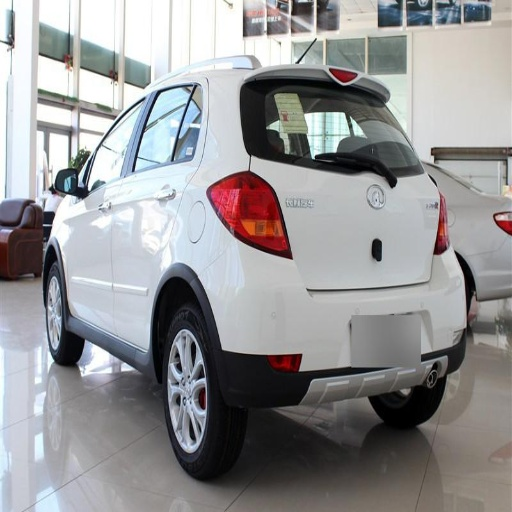back_bumper: (200, 237, 467, 404)
back_glass: (241, 79, 416, 171)
back_left_door: (112, 81, 197, 340)
trunk: (261, 168, 438, 290)
